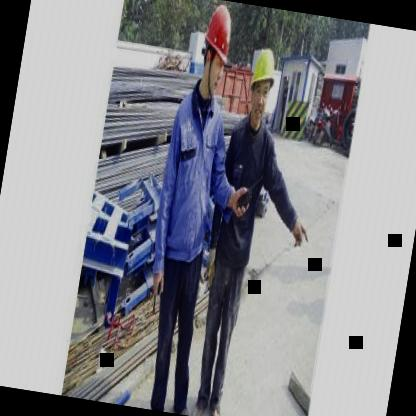helmet: (192, 0, 235, 96), (240, 41, 282, 126)
